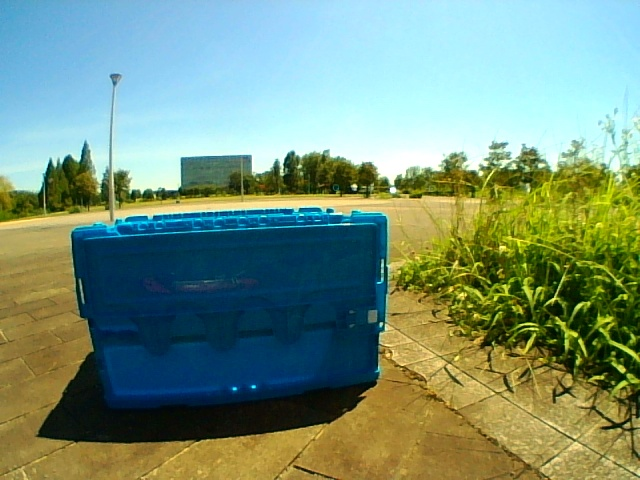blue_box: (105, 220, 384, 393)
